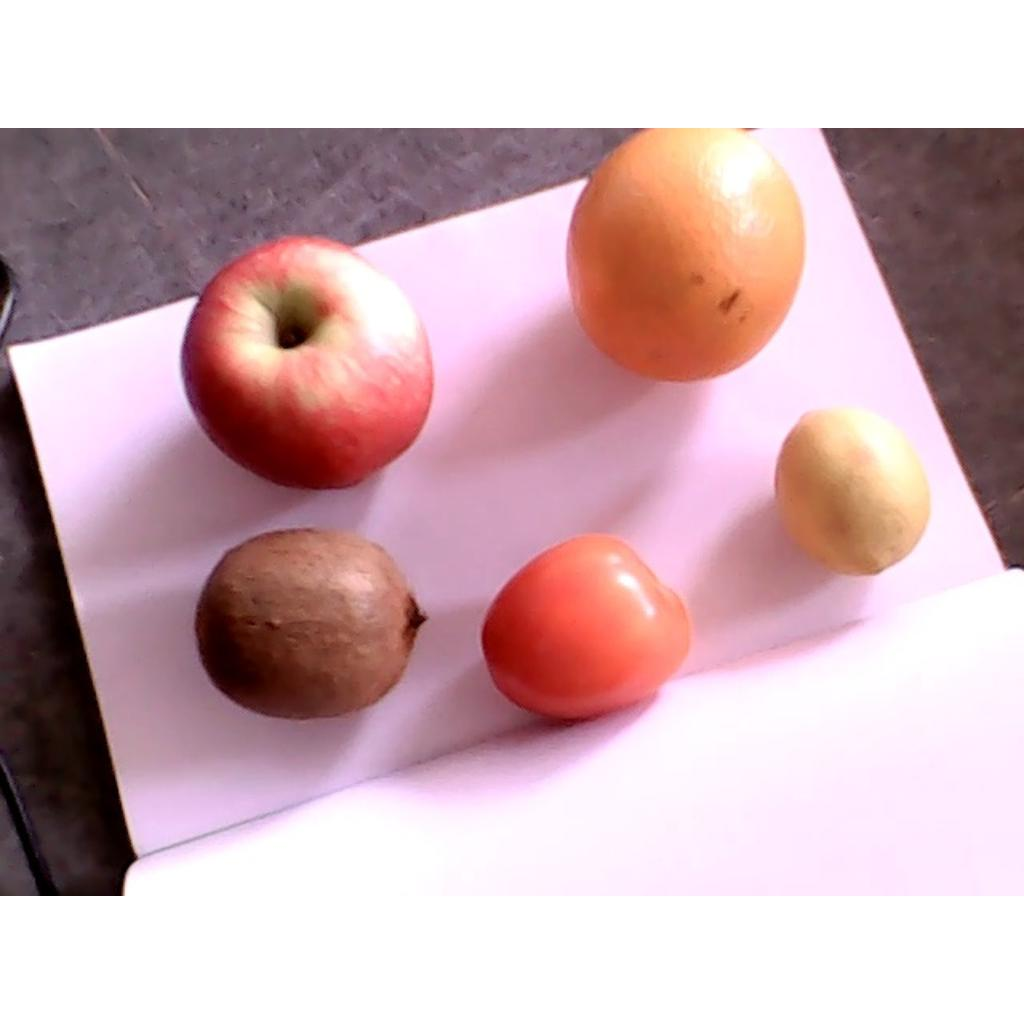apple: (183, 235, 434, 490)
kiwi: (193, 529, 432, 720)
lemon: (776, 409, 931, 576)
orange: (566, 128, 806, 381)
tomato: (480, 533, 692, 720)
